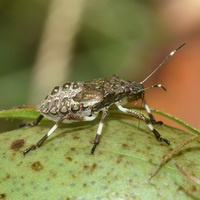insect: (20, 43, 185, 154)
